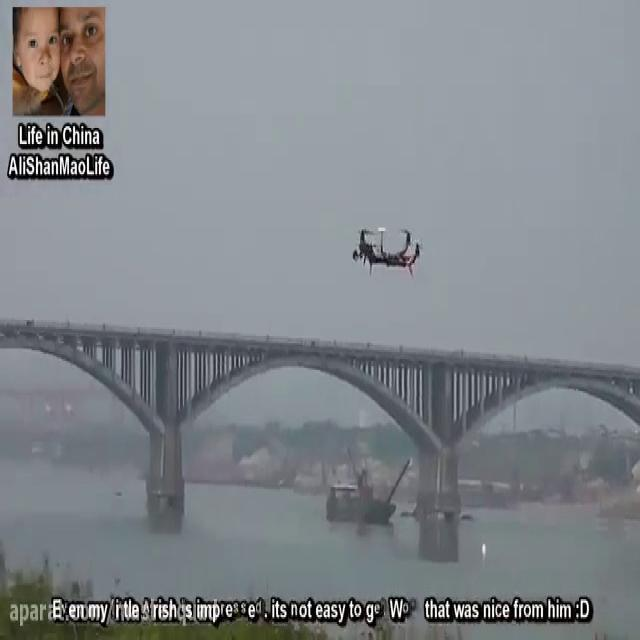drone: (350, 218, 425, 276)
